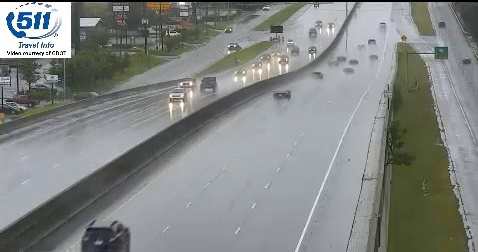car: (83, 220, 130, 252), (273, 89, 291, 100)
